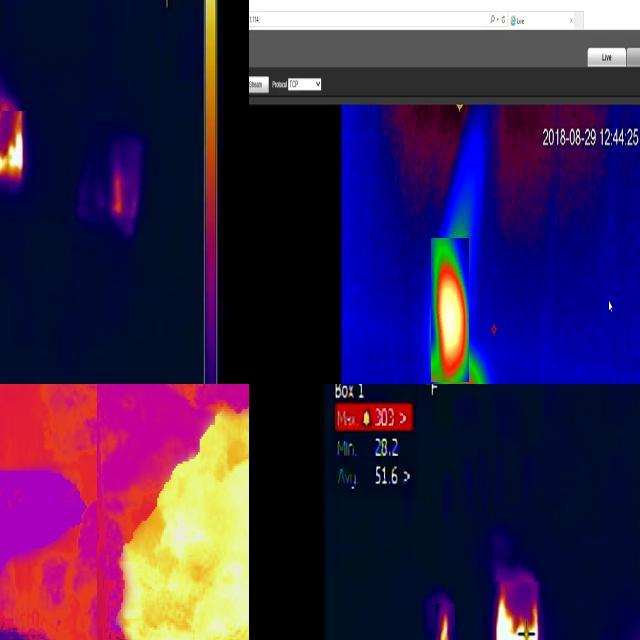fire: (125, 404, 250, 640), (433, 239, 471, 383), (494, 583, 542, 640), (1, 112, 27, 186), (436, 604, 456, 640)
